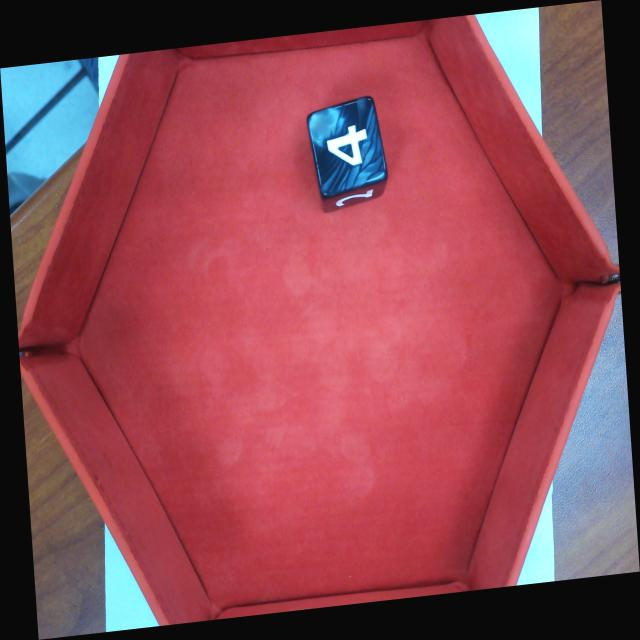dice: (309, 93, 389, 199)
